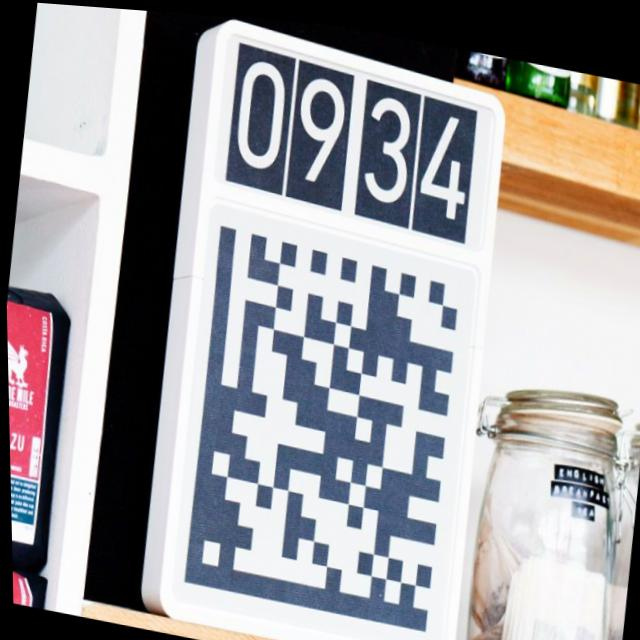datamatrix: (175, 219, 466, 627)
